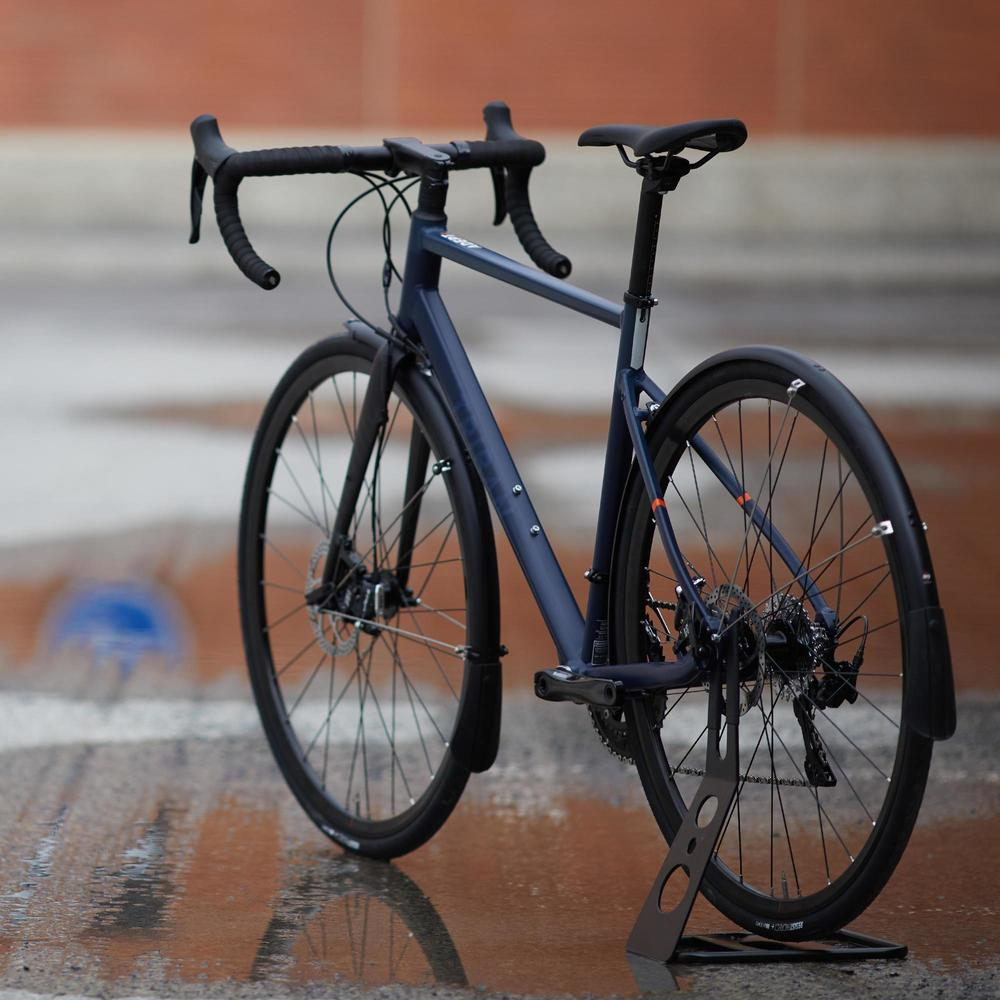RoadBike: (146, 81, 956, 948)
